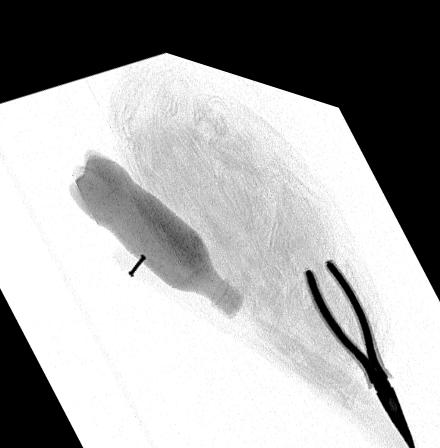Pliers: (303, 236, 418, 432)
